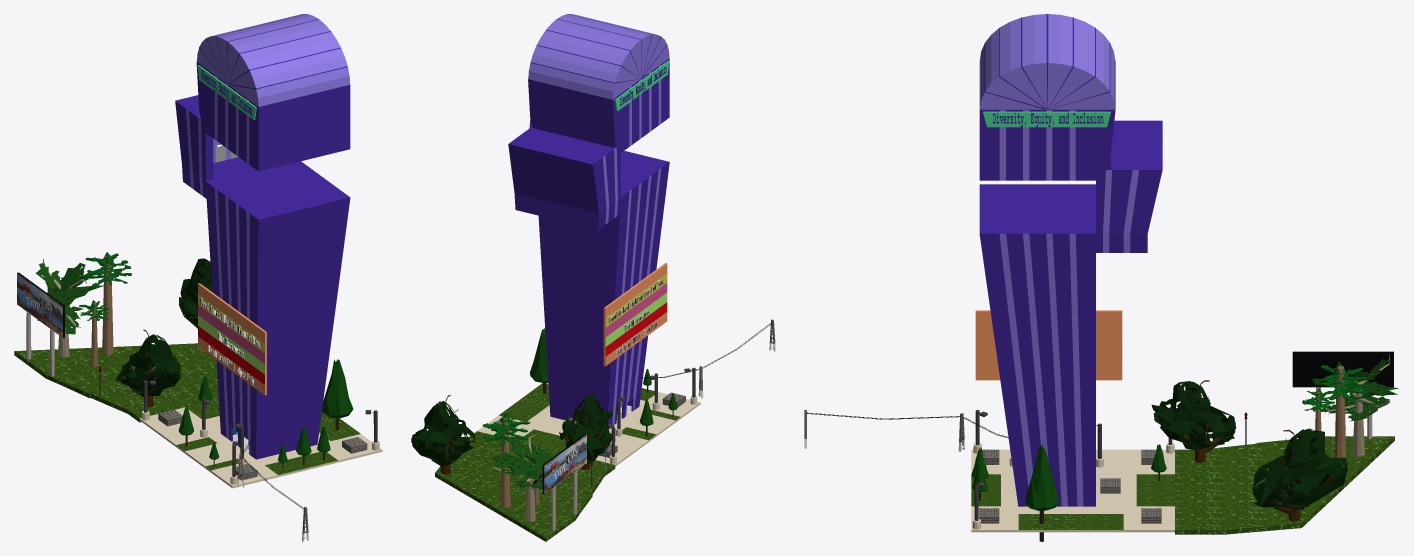
File: DEI Tower.glb
3 views of the same model, side by side, from view 1: azimuth 30°, elevation 25°; view 2: azimuth 150°, elevation 25°; view 3: azimuth 270°, elevation 25° (orthographic). The views are drawn at different scales.
Parts seen in each view (by area): view 1: Tower, Top, Ground.001, Leaves, Ground, Billboard, Leaves.001, Trunk, Sign.002, Light Pole, Sign.001, Statue Base (+2 smaller); view 2: Tower, Top, Ground.001, Leaves, Ground, Billboard, Trunk, Sign.002, Leaves.001, Light Pole, Sign.001, BBText; view 3: Tower, Top, Leaves, Ground.001, Ground, Billboard, Sign.002, Trunk, Leaves.001, Sign, Statue Base, Light Pole.
Part boxes in pixels (x1,y1,x2,y2): Tower: [175, 62, 350, 459]; Top: [197, 14, 350, 106]; Ground.001: [14, 343, 218, 422]; Leaves: [35, 252, 212, 396]; Ground: [139, 399, 382, 488]; Billboard: [198, 283, 266, 395]; Leaves.001: [178, 359, 353, 462]; Trunk: [43, 255, 211, 406]; Sign.002: [17, 272, 64, 337]; Light Pole: [142, 380, 379, 484]; Sign.001: [197, 65, 256, 119]; Statue Base: [158, 409, 367, 480]; Tower: [508, 58, 669, 428]; Top: [528, 14, 669, 99]; Ground.001: [435, 431, 615, 541]; Leaves: [411, 394, 612, 488]; Ground: [477, 382, 700, 466]; Billboard: [603, 263, 667, 366]; Trunk: [432, 395, 608, 521]; Sign.002: [542, 434, 586, 494]; Leaves.001: [530, 328, 677, 438]; Light Pole: [608, 367, 697, 463]; Sign.001: [614, 60, 669, 111]; BBText: [608, 280, 663, 355]; Tower: [979, 61, 1162, 506]; Top: [979, 14, 1115, 109]; Leaves: [1151, 357, 1398, 510]; Ground.001: [1175, 436, 1394, 534]; Ground: [971, 449, 1174, 532]; Billboard: [975, 310, 1122, 380]; Sign.002: [1292, 351, 1393, 387]; Trunk: [1175, 354, 1390, 521]; Leaves.001: [971, 444, 1166, 511]; Sign: [983, 111, 1110, 127]; Statue Base: [979, 449, 1161, 523]; Light Pole: [972, 409, 1174, 529].
Size of the model in its own units: 27.96 by 62.34 by 71.61.
51 materials, 4 textured.
